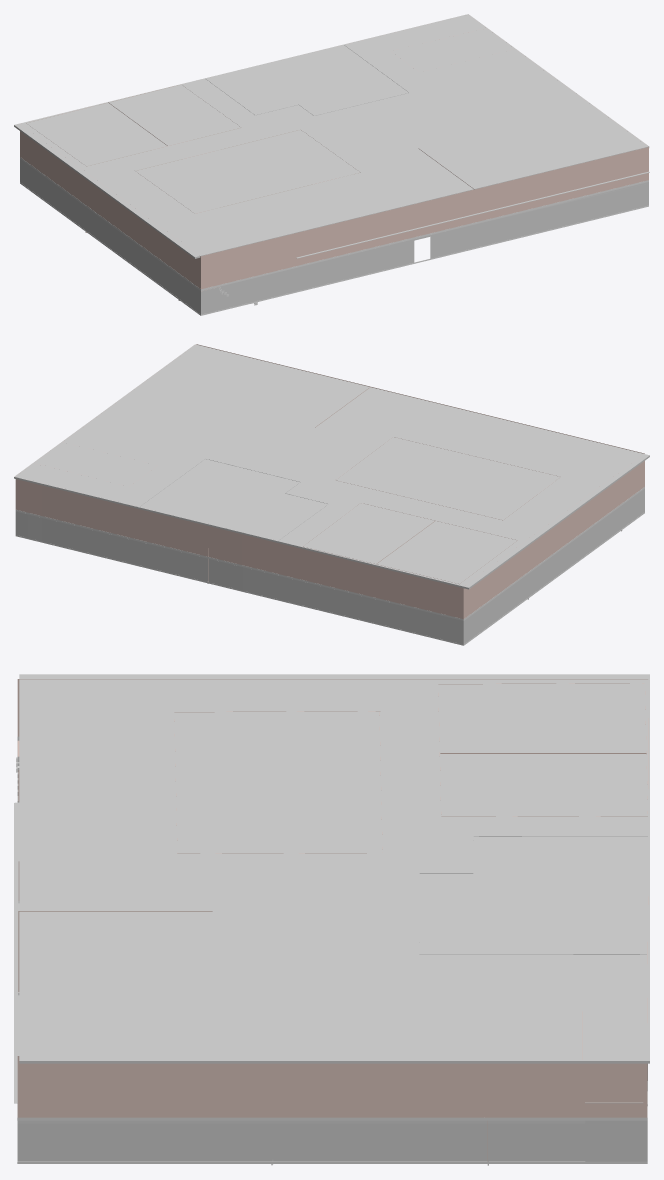
Rendered from 1StFLoor2.fbx.
The picture shows the model from 3 angles, top to bottom: view 1: azimuth 30°, elevation 25°; view 2: azimuth 150°, elevation 25°; view 3: azimuth 270°, elevation 25°; orthographic projection. The views are drawn at different scales.
Parts seen in each view (by area): view 1: Plane.001, Room.013, Room, Baseboard.009, Baseboard, Plane; view 2: Plane.001, Room.013, Room, Baseboard.009, Baseboard; view 3: Plane.001, Room.013, Room, Baseboard.009, Baseboard, Plane.
Part boxes in pixels (x1=…): Plane.001: x1=14, y1=14, x2=649, y2=258; Room.013: x1=20, y1=27, x2=648, y2=289; Room: x1=20, y1=159, x2=648, y2=314; Baseboard.009: x1=20, y1=157, x2=648, y2=290; Baseboard: x1=20, y1=182, x2=648, y2=315; Plane: x1=296, y1=171, x2=649, y2=258; Plane.001: x1=14, y1=344, x2=649, y2=589; Room.013: x1=15, y1=344, x2=644, y2=619; Room: x1=15, y1=488, x2=644, y2=644; Baseboard.009: x1=15, y1=487, x2=644, y2=620; Baseboard: x1=15, y1=512, x2=644, y2=645; Plane.001: x1=19, y1=674, x2=649, y2=1063; Room.013: x1=17, y1=679, x2=648, y2=1117; Room: x1=17, y1=739, x2=647, y2=1161; Baseboard.009: x1=17, y1=736, x2=647, y2=1120; Baseboard: x1=17, y1=1091, x2=647, y2=1163; Plane: x1=14, y1=802, x2=642, y2=1103.
Size of the model in its own units: 10654 by 1408 by 7409.
